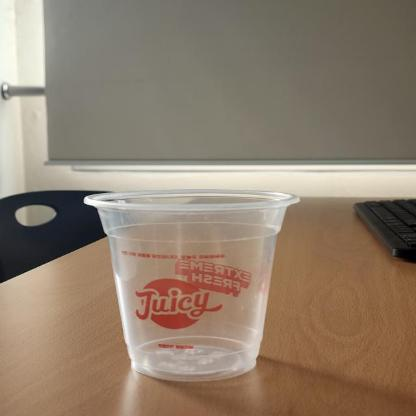Plastic Cup: (81, 188, 303, 380)
